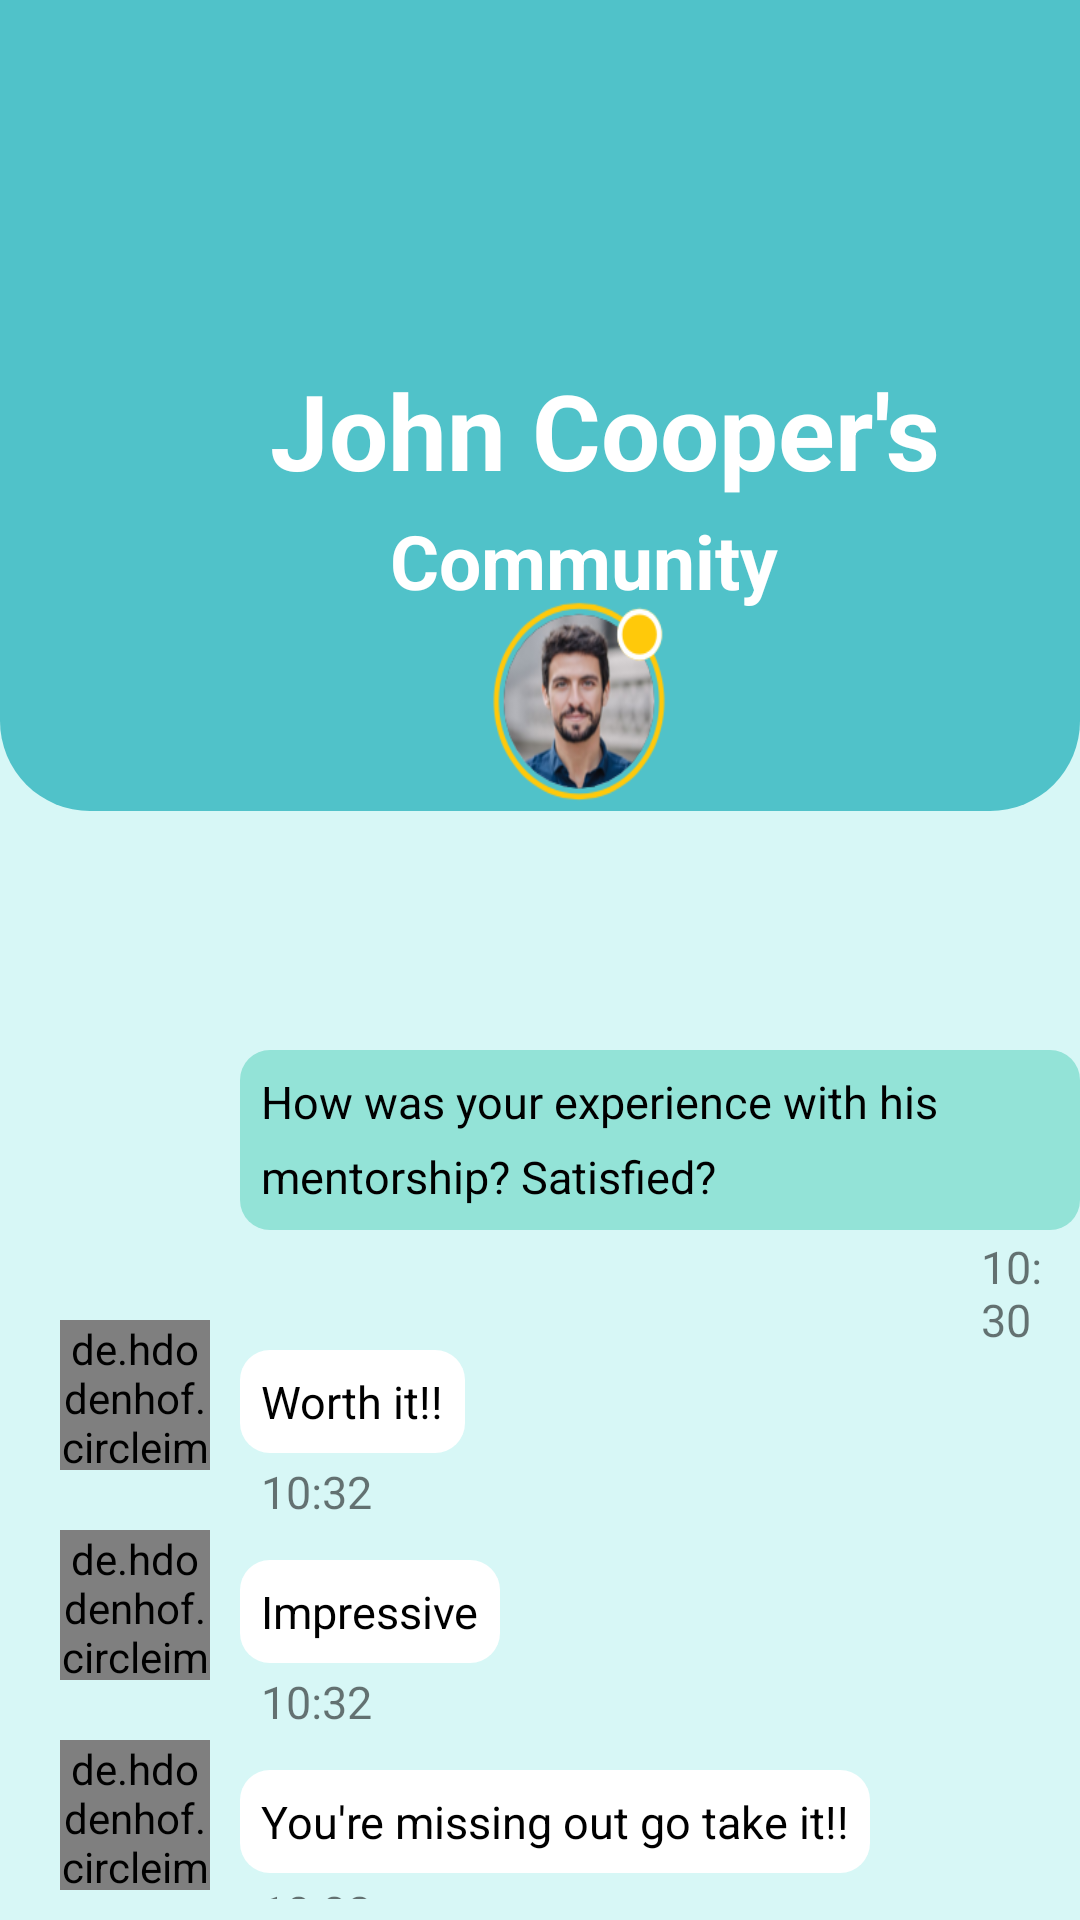

Locate icon controls on the screen. Image size 1080 x 1920, boxes as (x1, y1, x2, y2).
man: (493, 602, 665, 800)
